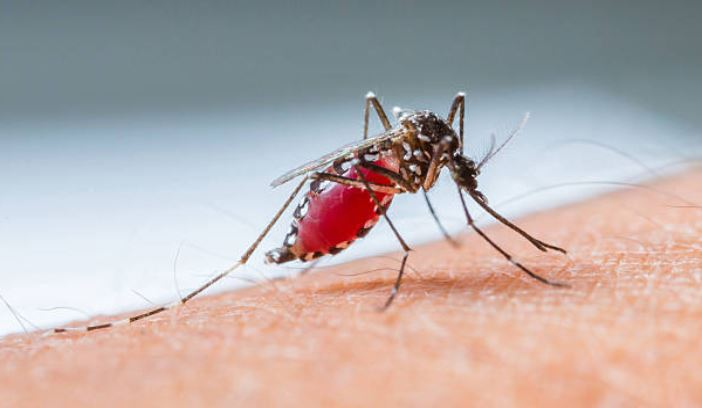dengue_mosquito: (242, 90, 568, 286)
